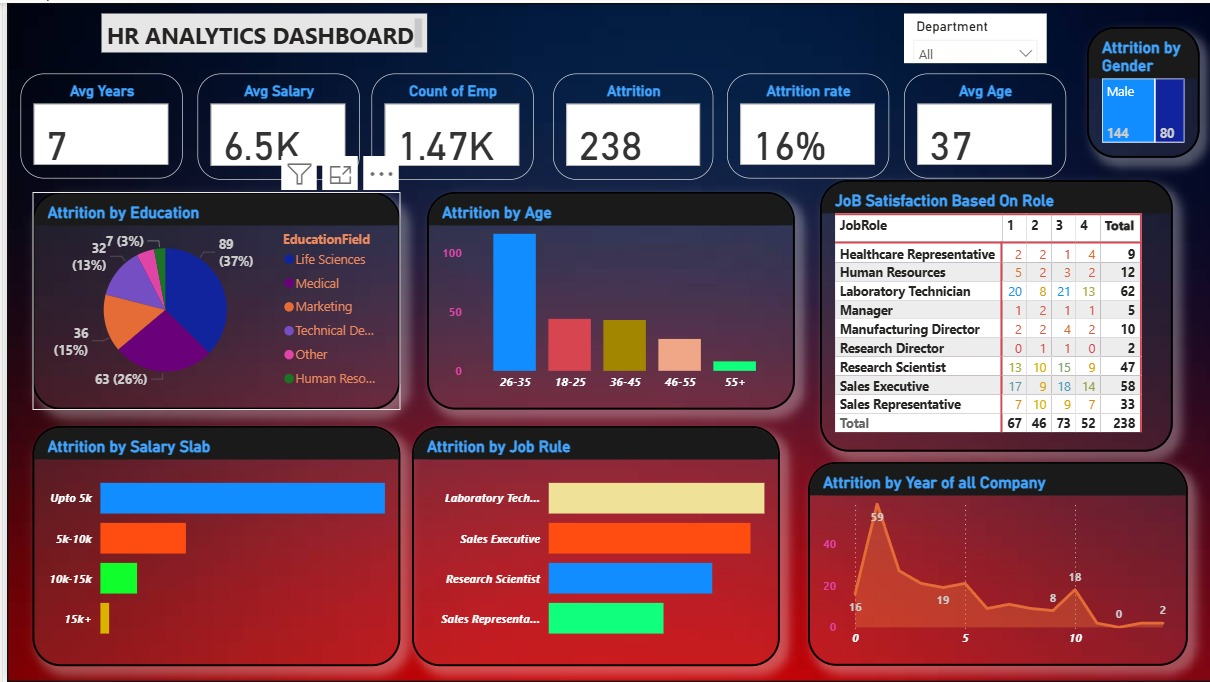

The page's visual inventory and layout, read from the dashboard file:
{"tool":"powerbi","page":{"name":"Hr analytics","canvas":[1280,720],"ordinal":0},"visuals":[{"type":"cardVisual","title":"Attrition","fields":{"Data":["Sum(HR_Analytics.AttritionCount)"]},"box":[579,74.8,170.2,112.9],"z":0},{"type":"cardVisual","title":"Attrition rate","fields":{"Data":["HR_Analytics.Attrition_rate"]},"box":[763.5,74.8,171.8,111.3],"z":1},{"type":"cardVisual","title":"Count of Emp","fields":{"Data":["Count(HR_Analytics.EmpID)"]},"box":[386.5,74.8,171.8,112.9],"z":2},{"type":"cardVisual","title":"Avg Age","fields":{"Data":["Avg(HR_Analytics.Age)"]},"box":[951.2,74.8,171.8,111.3],"z":3},{"type":"cardVisual","title":"Avg Salary","fields":{"Data":["Avg(HR_Analytics.MonthlyIncome)"]},"box":[202,74.8,171.8,112.9],"z":4},{"type":"cardVisual","title":"Avg Years","fields":{"Data":["Avg(HR_Analytics.YearsAtCompany)"]},"box":[14.3,74.8,171.8,111.3],"z":5},{"type":"pieChart","title":"Attrition by Education","fields":{"Category":["HR_Analytics.EducationField"],"Y":["Sum(HR_Analytics.AttritionCount)"]},"box":[27,200.4,389.7,230.6],"z":6},{"type":"columnChart","title":"Attrition by Age","fields":{"Category":["HR_Analytics.AgeGroup"],"Y":["Sum(HR_Analytics.AttritionCount)"]},"box":[445.4,200.4,389.7,230.6],"z":7},{"type":"pivotTable","title":"JoB Satisfaction Based On Role","fields":{"Rows":["HR_Analytics.JobRole"],"Columns":["HR_Analytics.JobSatisfaction"],"Values":["Sum(HR_Analytics.AttritionCount)"]},"box":[862.1,187.7,373.8,287.9],"z":8},{"type":"barChart","title":"Attrition by Salary Slab","fields":{"Category":["HR_Analytics.SalarySlab"],"Y":["Sum(HR_Analytics.AttritionCount)"]},"box":[27,448.6,389.7,254.5],"z":9},{"type":"barChart","title":"Attrition by Job Rule","fields":{"Y":["Sum(HR_Analytics.AttritionCount)"],"Category":["HR_Analytics.JobRole"]},"box":[429.5,448.6,389.7,254.5],"z":10},{"type":"areaChart","title":"Attrition by Year of all Company","fields":{"Category":["HR_Analytics.YearsAtCompany"],"Y":["Sum(HR_Analytics.AttritionCount)"]},"box":[849.4,486.7,402.4,216.3],"z":11},{"type":"treemap","title":"Attrition by Gender","fields":{"Group":["HR_Analytics.Gender"],"Values":["Sum(HR_Analytics.AttritionCount)"]},"box":[1145.2,25.4,119.3,138.4],"z":12},{"type":"slicer","fields":{"Values":["HR_Analytics.Department"]},"box":[951.2,11.1,151.1,52.5],"z":13},{"type":"textbox","box":[100.2,11.1,345.2,41.4],"z":14}]}

Visuals, with their boxes in screenshot pixels (x1, y1, x2, y2), scaled from the page's 1280x720 canvas onto the 1210x682 screenshot:
"Attrition" cardVisual: 547,71,708,178
"Attrition rate" cardVisual: 722,71,884,176
"Count of Emp" cardVisual: 365,71,528,178
"Avg Age" cardVisual: 899,71,1062,176
"Avg Salary" cardVisual: 191,71,353,178
"Avg Years" cardVisual: 14,71,176,176
"Attrition by Education" pieChart: 26,190,394,408
"Attrition by Age" columnChart: 421,190,789,408
"JoB Satisfaction Based On Role" pivotTable: 815,178,1168,450
"Attrition by Salary Slab" barChart: 26,425,394,666
"Attrition by Job Rule" barChart: 406,425,774,666
"Attrition by Year of all Company" areaChart: 803,461,1183,666
"Attrition by Gender" treemap: 1083,24,1195,155
slicer - HR_Analytics.Department: 899,11,1042,60
textbox: 95,11,421,50
